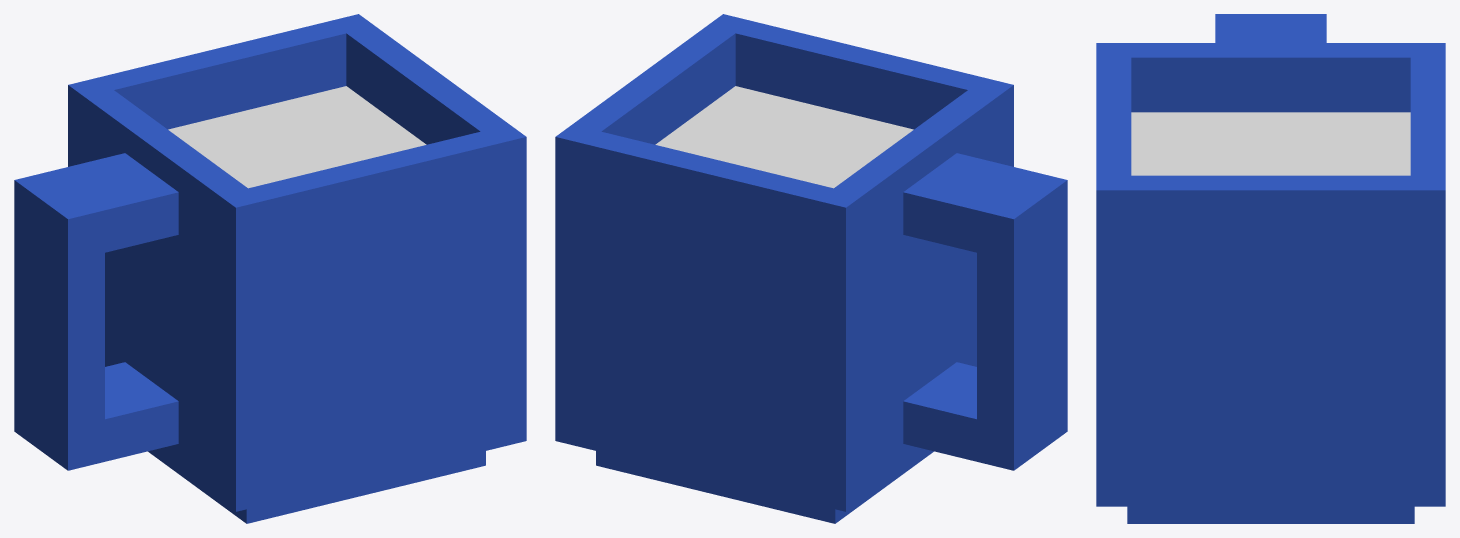
The model's file is cupFilled.fbx.
3 views of the same model, side by side, from view 1: azimuth 30°, elevation 25°; view 2: azimuth 150°, elevation 25°; view 3: azimuth 270°, elevation 25° (orthographic). The views are drawn at different scales.
Parts seen in each view (by area): view 1: cupFilled; view 2: cupFilled; view 3: cupFilled.
Part boxes in pixels (x1=…): cupFilled: x1=14, y1=14, x2=526, y2=523; cupFilled: x1=555, y1=14, x2=1067, y2=523; cupFilled: x1=1096, y1=14, x2=1445, y2=523.
Size of the model in its own units: 32.1 by 25.47 by 23.24.
